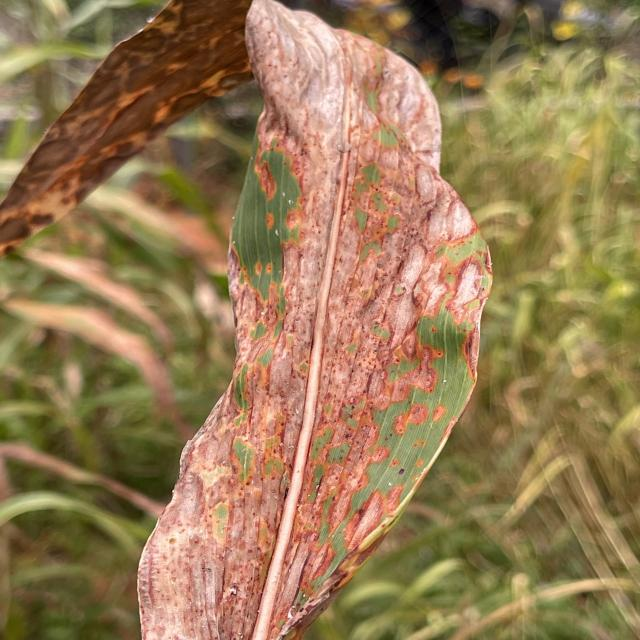millet_rust: (121, 2, 497, 640)
